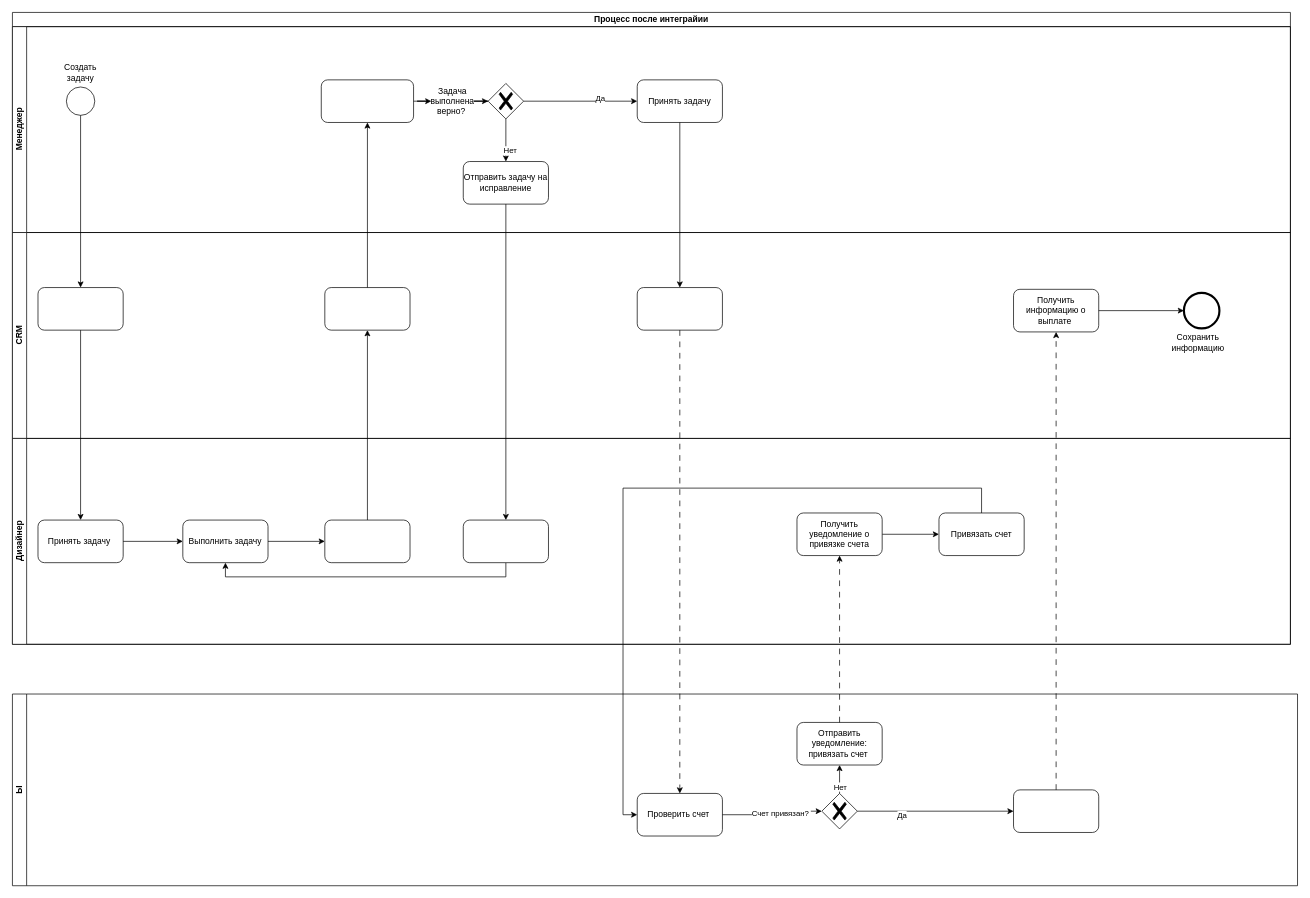
The diagram is 1310 pixels wide and 898 high, and some of its shapes have lost their labels. The centre of each missing label's shape, as x and y in pixels:
Задача выполнена: pixel 367 541
Отправить запрос на выплату: pixel 679 308
Поменять статус - "Готово": pixel 367 308
Поставить задачу дизайнеру: pixel 80 308
Принять задачу на доработку: pixel 505 541
Проверить результат работы: pixel 367 100
Произвести оплату: pixel 1056 810
